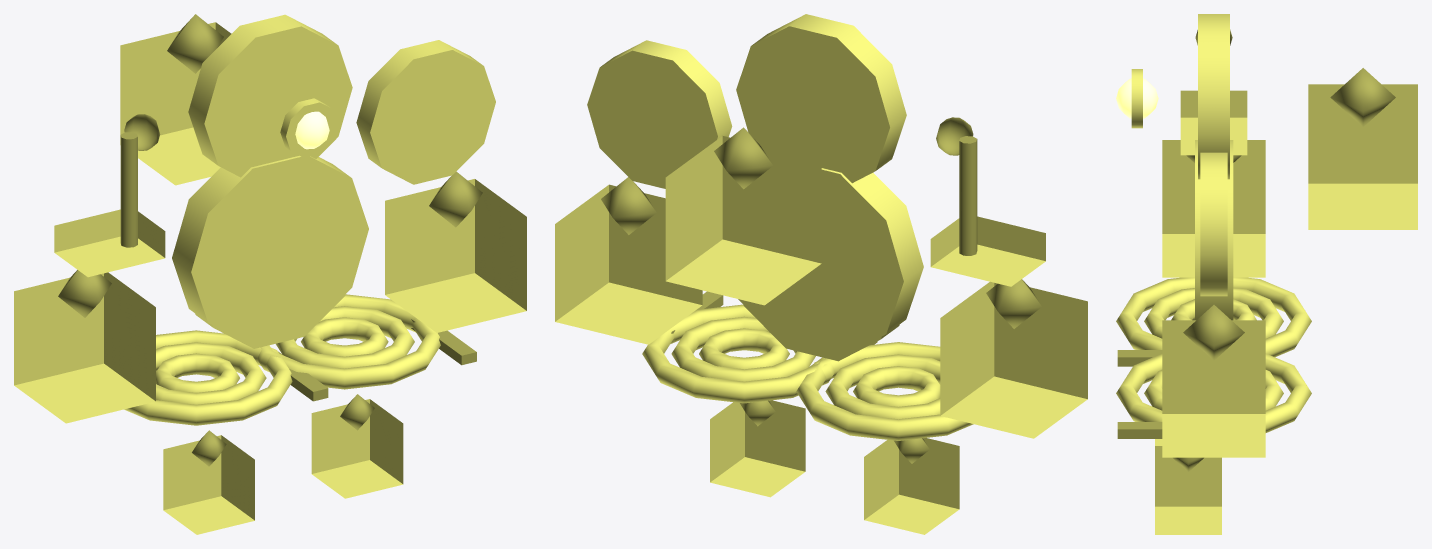
The model's file is golem_068.glb.
3 views of the same model, side by side, from view 1: azimuth 30°, elevation 25°; view 2: azimuth 150°, elevation 25°; view 3: azimuth 270°, elevation 25° (orthographic). The views are drawn at different scales.
Visible parts, largest first — view 1: Body, Detail, Glow; view 2: Body, Detail; view 3: Body, Detail, Glow.
Part boxes in pixels (x1=…): Body: x1=14, y1=14, x2=526, y2=534; Detail: x1=58, y1=14, x2=482, y2=466; Glow: x1=295, y1=111, x2=329, y2=149; Body: x1=555, y1=14, x2=1087, y2=534; Detail: x1=601, y1=117, x2=1041, y2=463; Body: x1=1116, y1=14, x2=1417, y2=534; Detail: x1=1117, y1=29, x2=1395, y2=471; Glow: x1=1116, y1=78, x2=1158, y2=118.
Bounding box in the file's own units: 1.47 × 1.4 × 0.8361.
